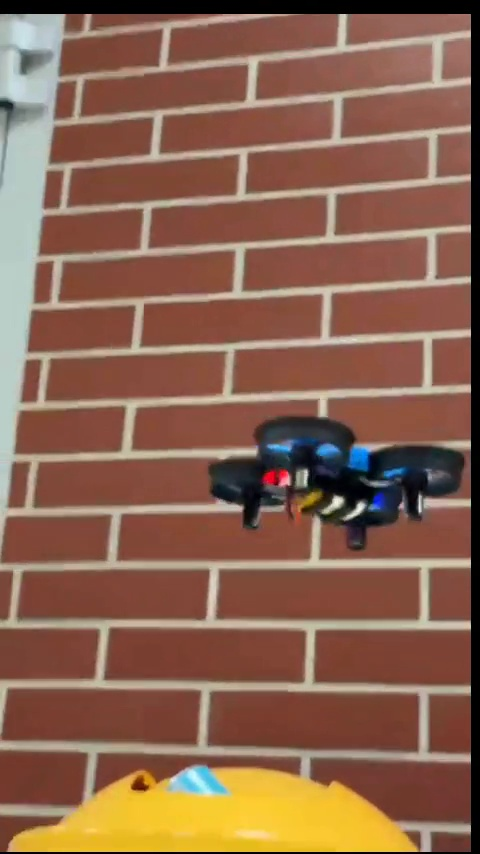drone: (205, 413, 463, 556)
